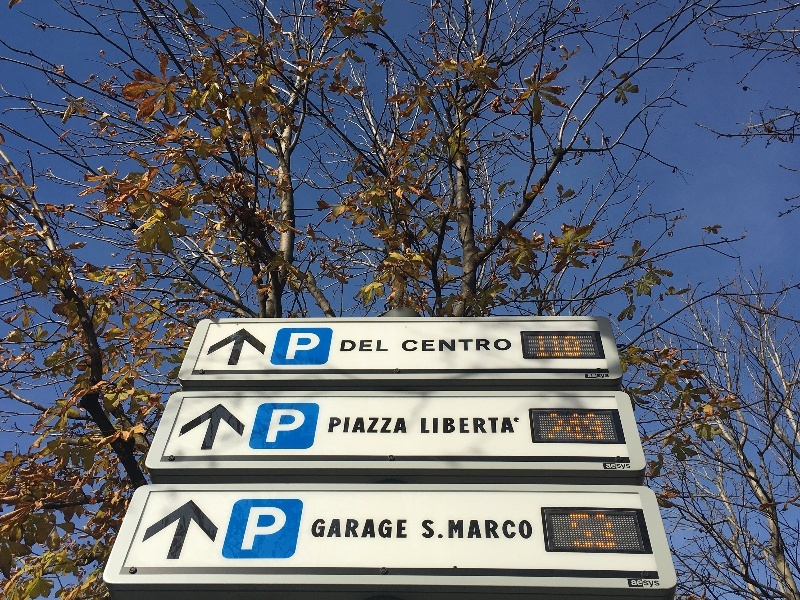text: (257, 508, 272, 552), (273, 508, 288, 552), (273, 409, 288, 444), (289, 409, 304, 444), (577, 515, 592, 548), (593, 515, 608, 548), (305, 333, 320, 360), (561, 413, 576, 440), (577, 413, 592, 440), (291, 333, 304, 360), (545, 336, 560, 357), (561, 336, 576, 357), (321, 519, 336, 539), (337, 519, 352, 539), (353, 519, 368, 539), (369, 519, 384, 539), (385, 519, 400, 539), (593, 413, 604, 440), (449, 520, 464, 539), (465, 520, 480, 539), (481, 520, 496, 539), (497, 520, 512, 539), (513, 520, 528, 539), (433, 417, 448, 434), (449, 417, 464, 434), (465, 417, 480, 434), (481, 417, 496, 434), (497, 417, 512, 434), (551, 413, 560, 440), (337, 417, 352, 433), (353, 417, 368, 433), (369, 417, 384, 433), (385, 417, 400, 433), (433, 519, 445, 539), (609, 515, 616, 548), (251, 508, 256, 552), (417, 339, 432, 353), (433, 339, 448, 353), (449, 339, 464, 353), (465, 339, 480, 353), (481, 339, 496, 353), (422, 519, 432, 539), (570, 515, 576, 548), (402, 339, 416, 353), (497, 339, 511, 353), (353, 340, 368, 352), (369, 340, 384, 352), (422, 417, 432, 434), (305, 409, 309, 444), (313, 519, 320, 539), (538, 336, 544, 357), (401, 519, 407, 539), (342, 340, 352, 352), (513, 417, 520, 434), (401, 417, 407, 433), (529, 520, 534, 539), (289, 508, 291, 552), (577, 336, 581, 357), (321, 333, 324, 360), (331, 417, 336, 433), (385, 340, 390, 352)
